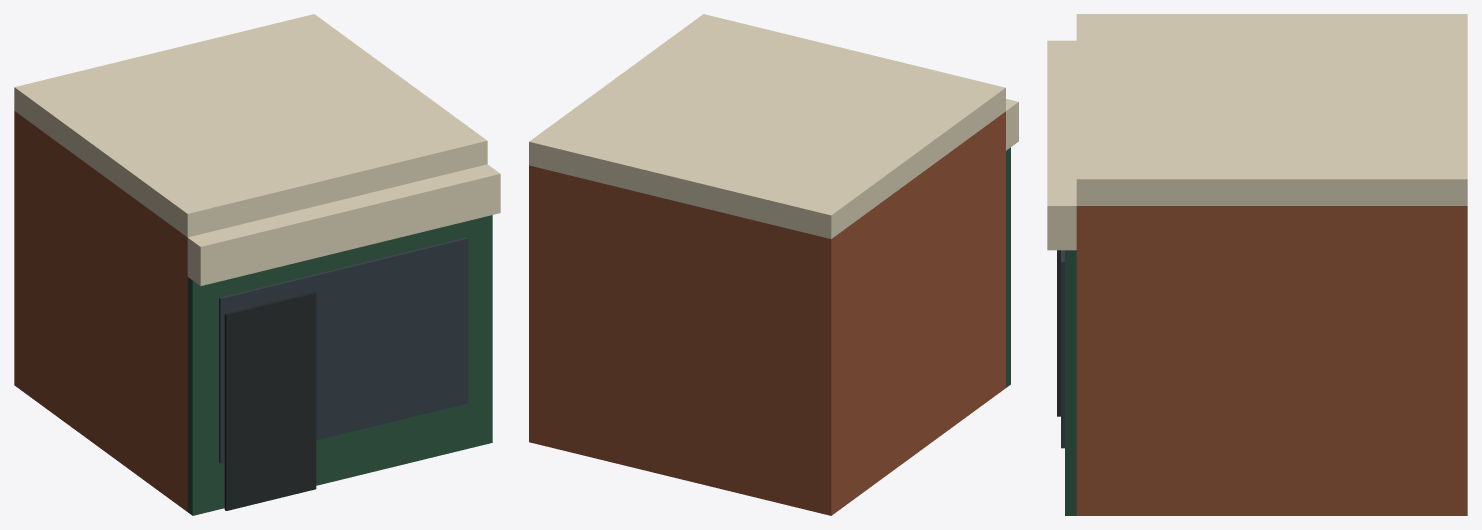
The model's file is arcade-door.glb.
The picture shows the model from 3 angles, left to right: view 1: azimuth 30°, elevation 25°; view 2: azimuth 150°, elevation 25°; view 3: azimuth 270°, elevation 25°; orthographic projection. The views are drawn at different scales.
Parts seen in each view (by area): view 1: arcade-door; view 2: arcade-door; view 3: arcade-door.
Part boxes in pixels (x1=…): arcade-door: x1=14, y1=14, x2=500, y2=515; arcade-door: x1=529, y1=14, x2=1018, y2=515; arcade-door: x1=1047, y1=14, x2=1467, y2=515.
Bounding box in the file's own units: 4 × 3.8 × 4.3.
